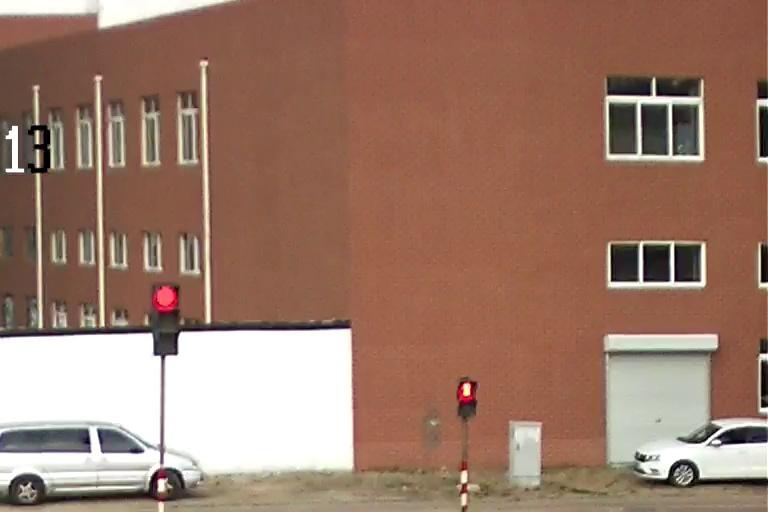red: (148, 282, 180, 313)
redpeople: (458, 381, 478, 398)
